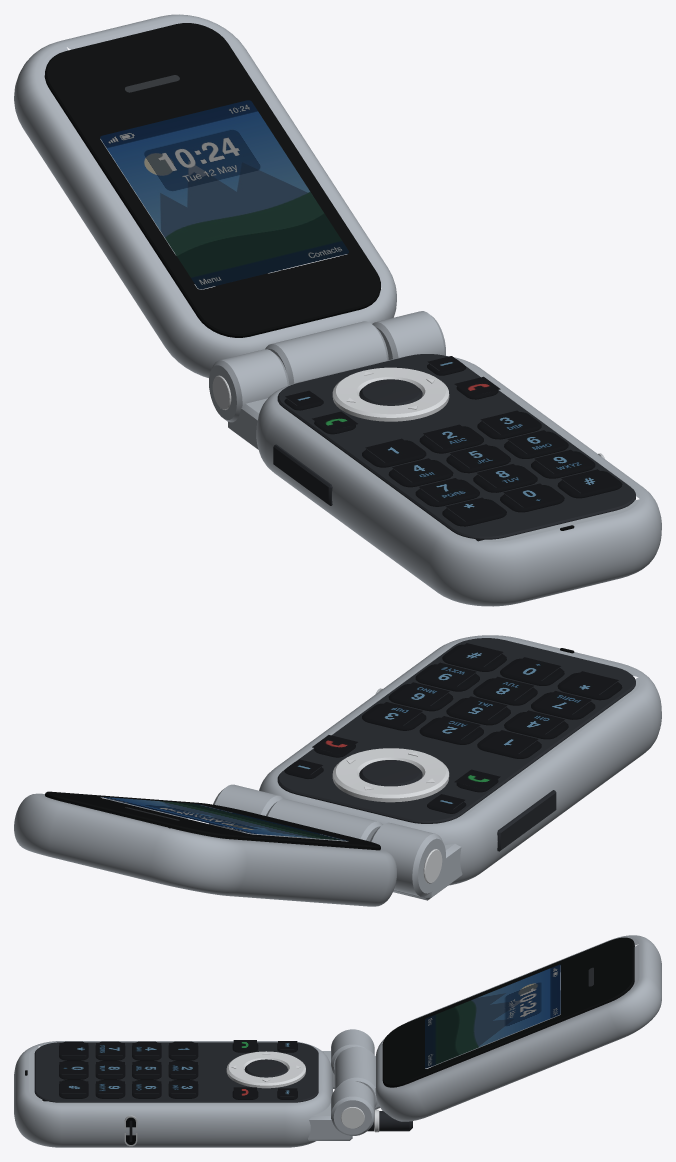
Rendered from flip-phone.glb.
3 renders of one model, top to bottom at view 1: azimuth 30°, elevation 25°; view 2: azimuth 150°, elevation 25°; view 3: azimuth 270°, elevation 25°, orthographic. The views are drawn at different scales.
Visible parts, largest first — view 1: Lid, Base; view 2: Base, Lid; view 3: Base, Lid.
Part boxes in pixels (x1=…): Lid: x1=14, y1=14, x2=396, y2=384; Base: x1=209, y1=311, x2=661, y2=606; Base: x1=209, y1=635, x2=661, y2=900; Lid: x1=14, y1=791, x2=396, y2=906; Base: x1=14, y1=1029, x2=412, y2=1147; Lid: x1=334, y1=935, x2=661, y2=1121.
Bounding box in the file's own units: 0.05 × 0.0488 × 0.1828.
Materials: 18 (3 with a texture image).
